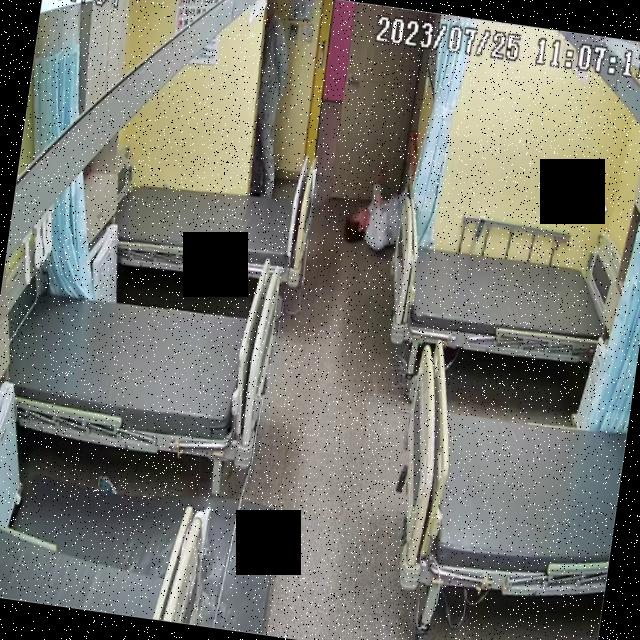bed: (384, 338, 636, 611), (0, 275, 278, 463), (380, 223, 628, 373), (111, 164, 312, 287)
fall: (344, 158, 414, 252)
patient: (243, 0, 305, 198), (344, 152, 416, 252)
